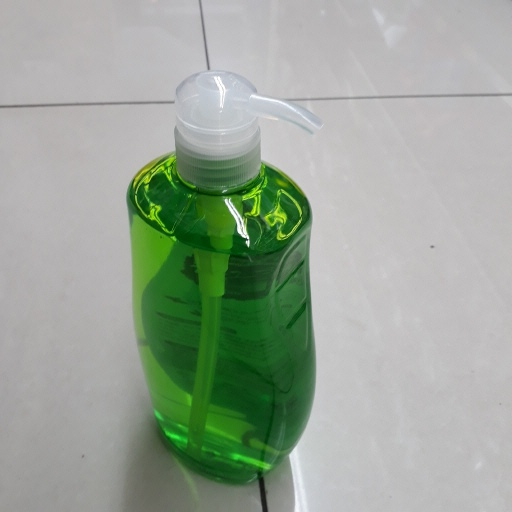Plastic_3: (124, 71, 322, 487)
